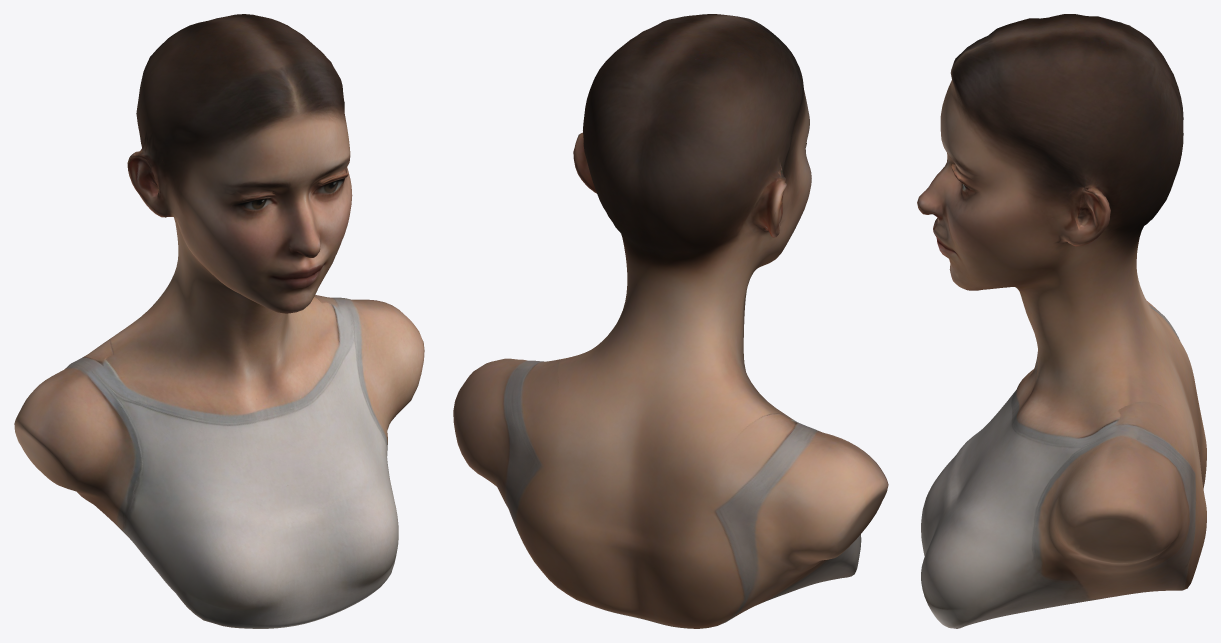
The model's file is woman2.glb.
3 views of the same model, side by side, from view 1: azimuth 30°, elevation 25°; view 2: azimuth 150°, elevation 25°; view 3: azimuth 270°, elevation 25° (orthographic). The views are drawn at different scales.
Bounding box in the file's own units: 1.49 × 2 × 0.9106.
1 material, 1 textured.
